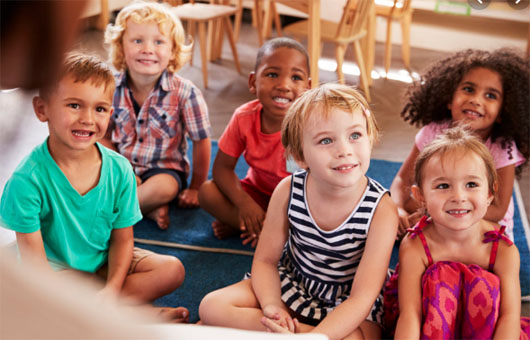human: (196, 67, 403, 340), (2, 51, 188, 311), (398, 134, 530, 340), (200, 32, 318, 258)
